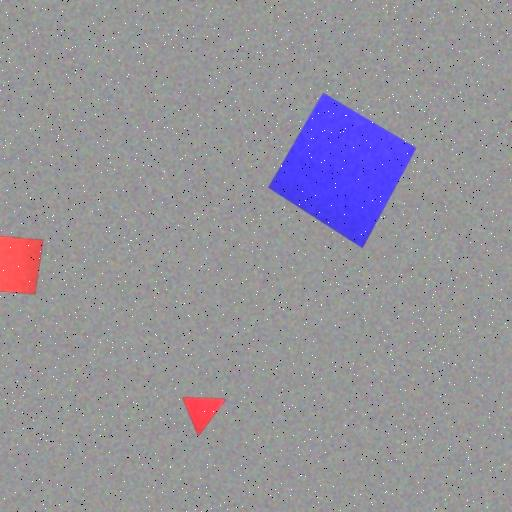BLUE_SQUARE: (268, 92, 417, 249)
RED_SQUARE: (0, 234, 44, 296)
